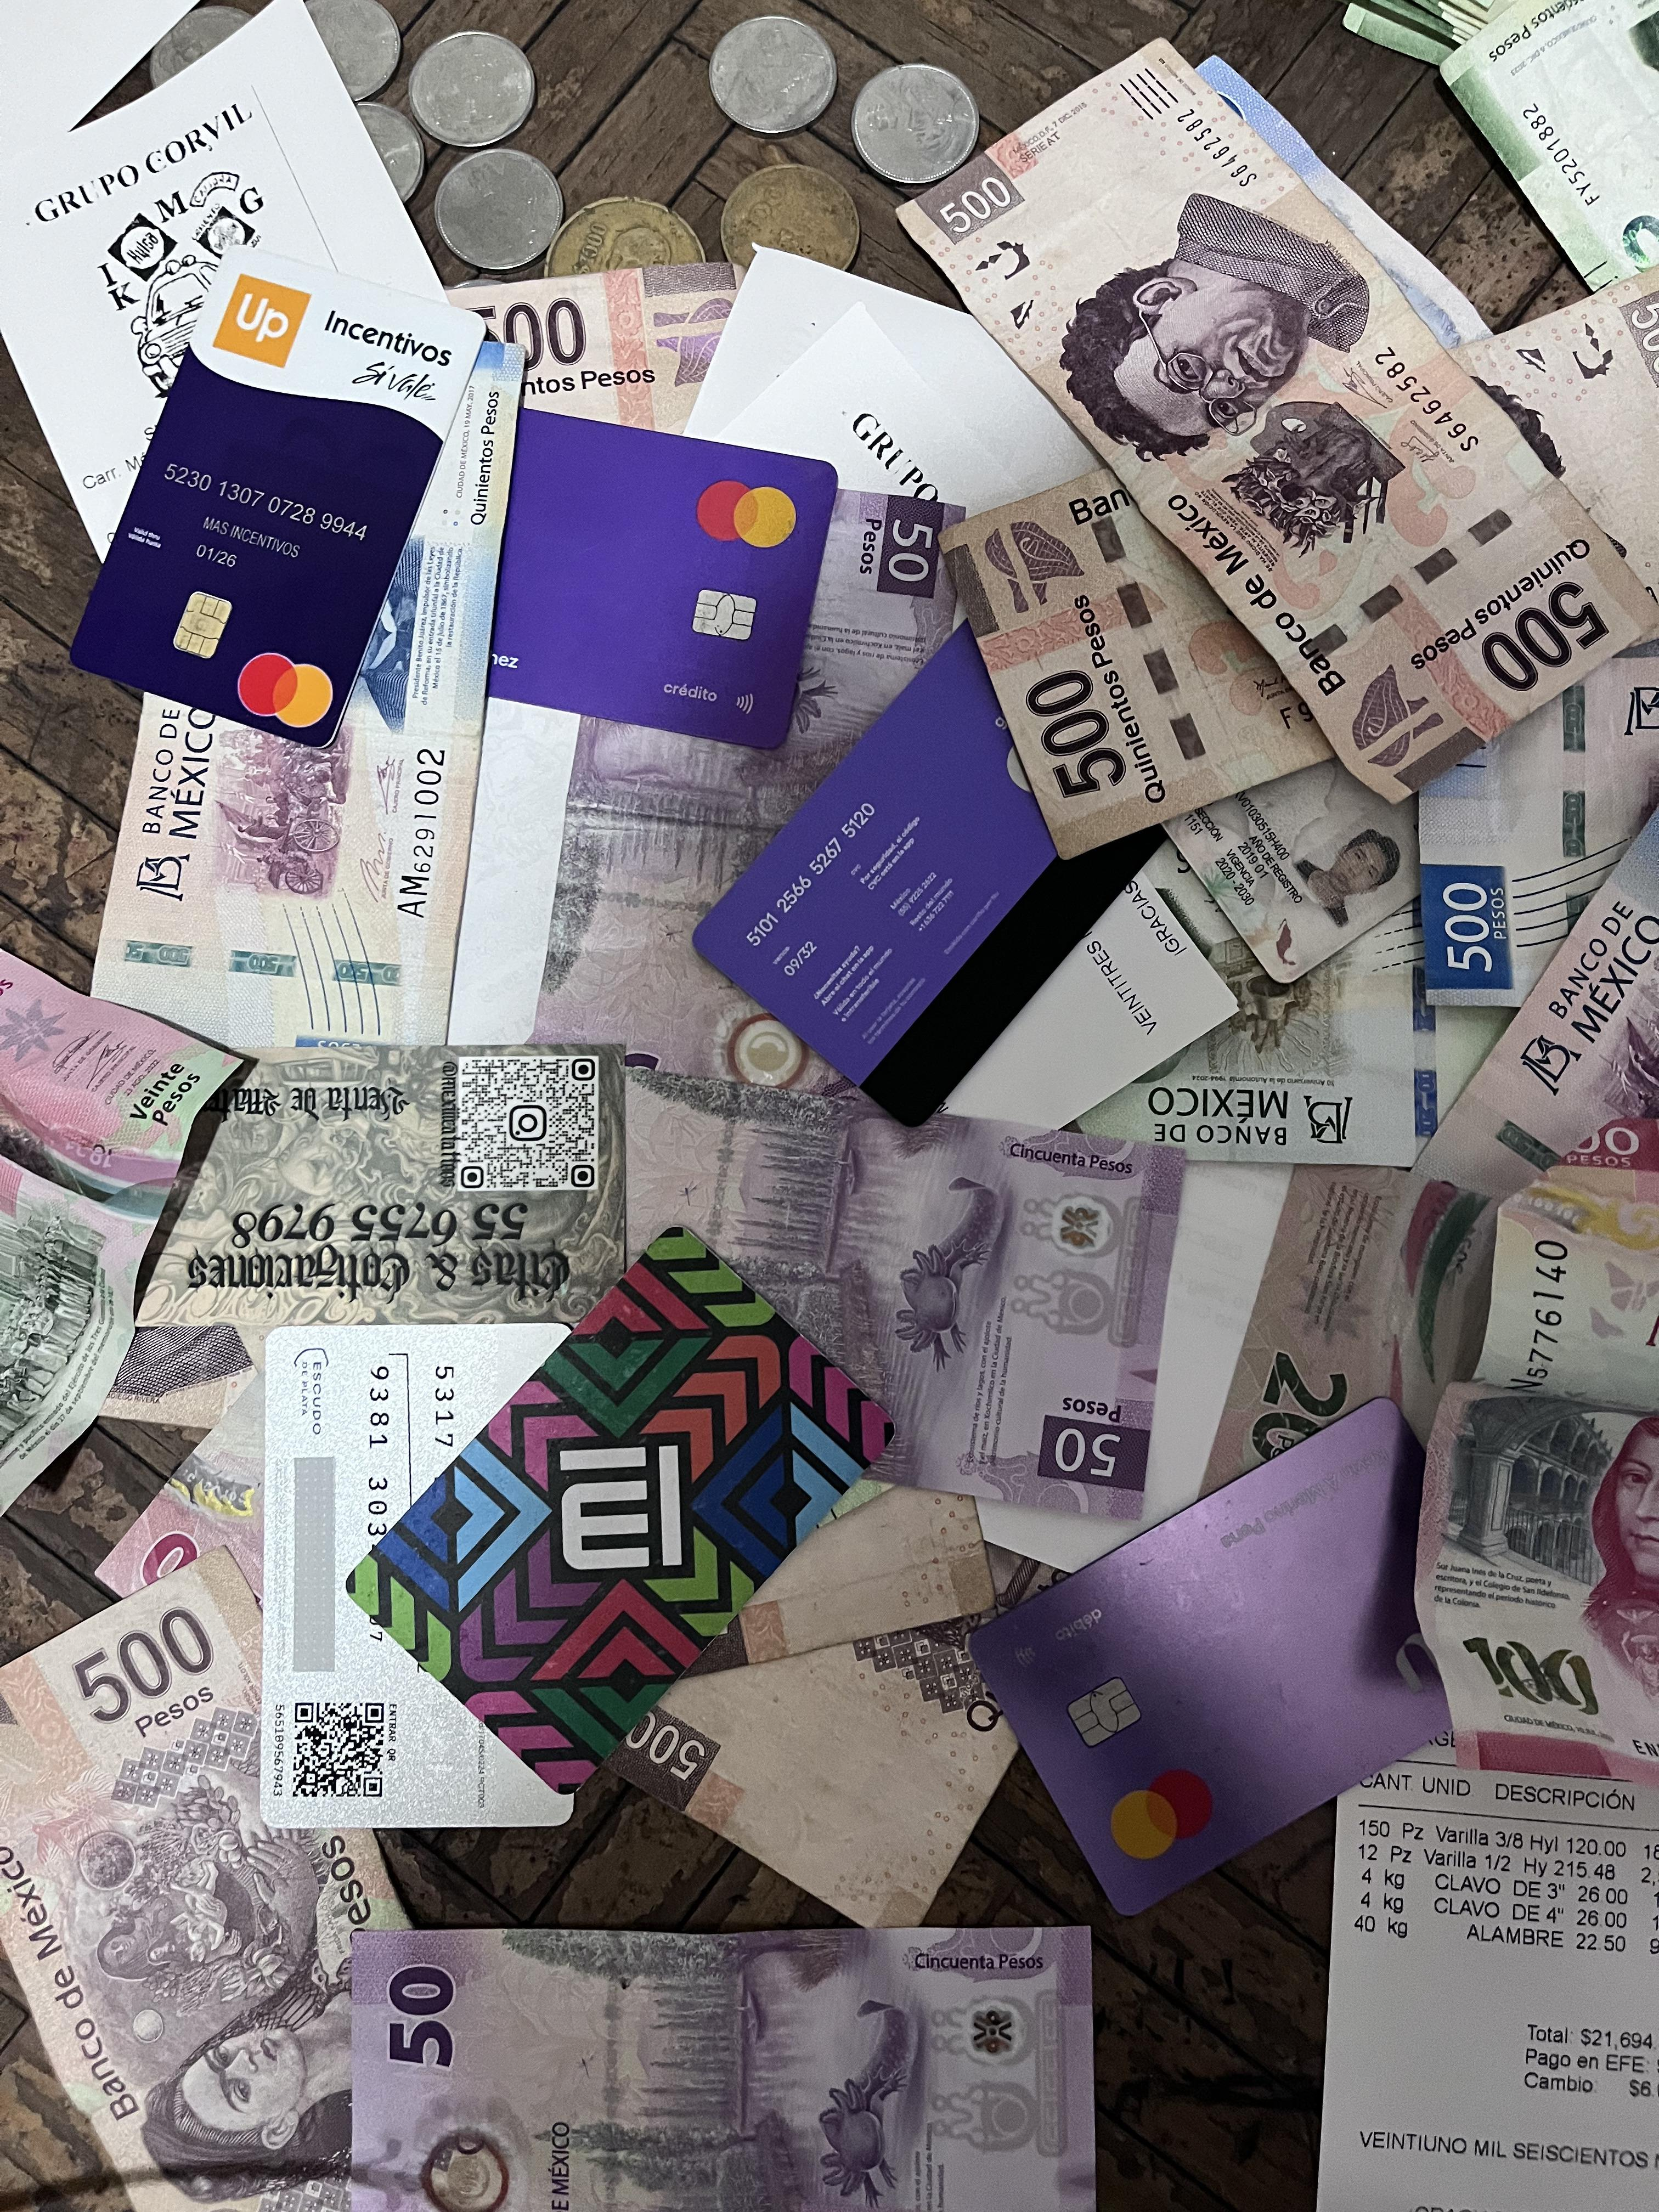100: (1387, 1076, 1659, 1808)
20: (0, 918, 253, 1536), (1195, 1129, 1527, 1595)
50: (502, 441, 971, 1129), (589, 1061, 1215, 1526), (322, 1895, 1108, 2212)
500: (870, 31, 1659, 803), (931, 291, 1659, 876), (0, 1534, 532, 2212), (479, 1475, 1072, 1932), (416, 263, 823, 460)
500 nuevo: (134, 314, 523, 1120), (1392, 650, 1659, 1028)
